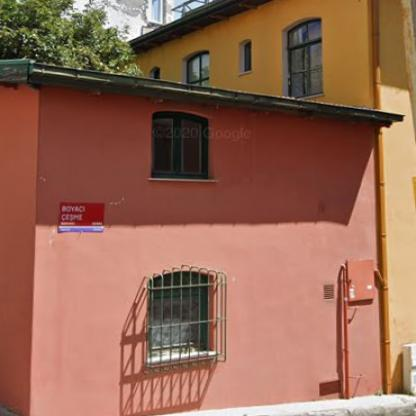window: (152, 276, 204, 351), (153, 118, 203, 174), (288, 21, 322, 98), (187, 53, 210, 87)
